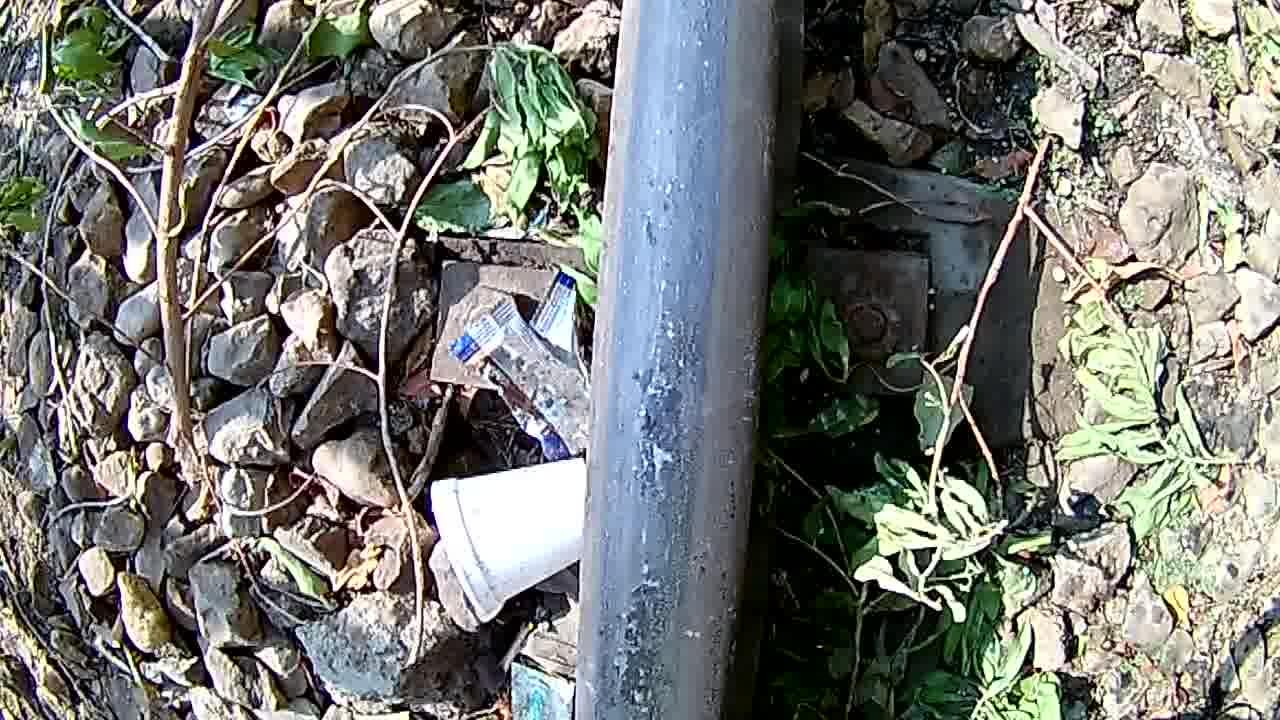crack: (592, 87, 778, 720)
